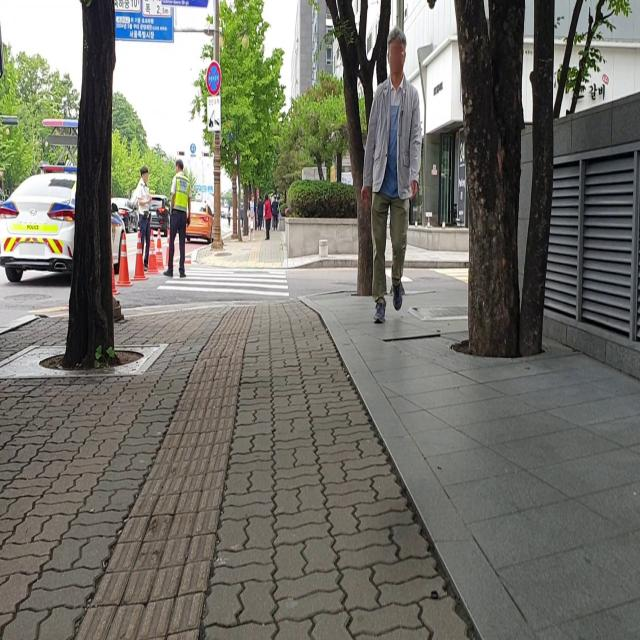횡단보도: (155, 264, 291, 299)
